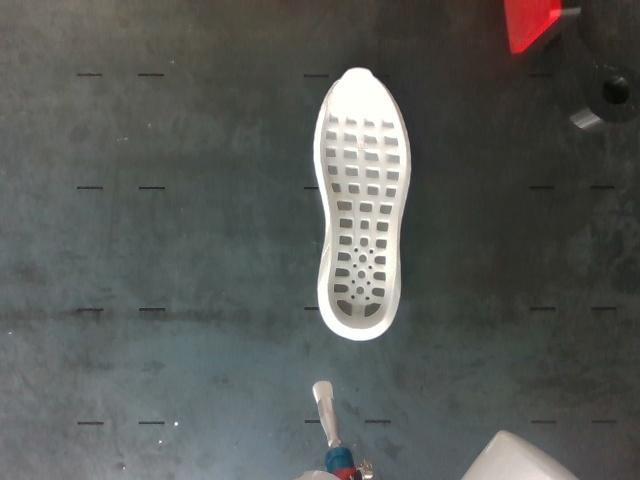shoes: (317, 67, 408, 331)
